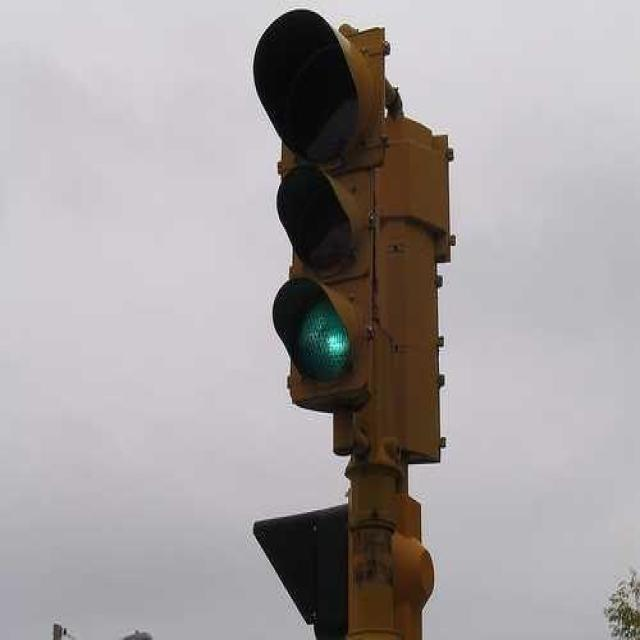Traffic Light -Green-: (239, 9, 401, 434)
